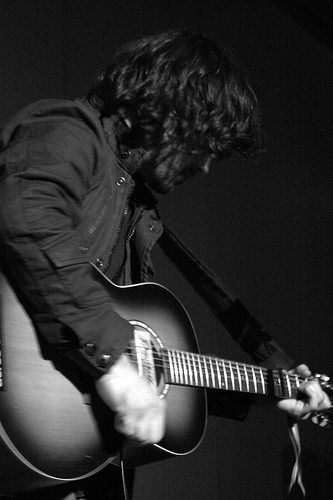guitar: (1, 263, 333, 488)
